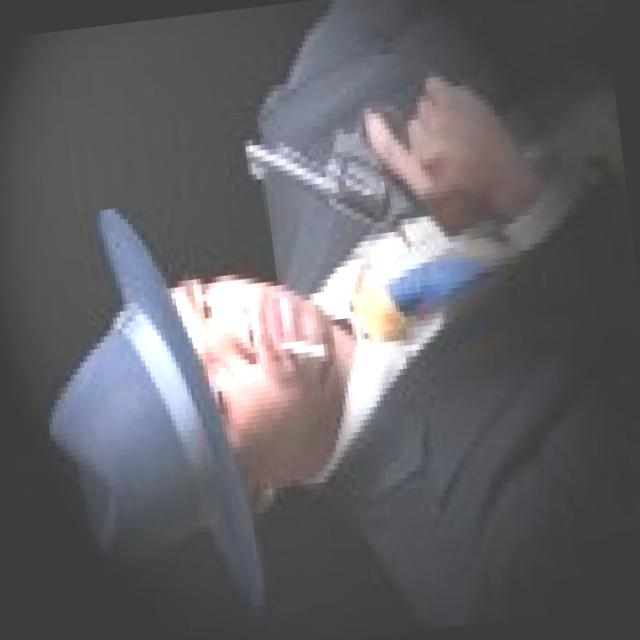handgun: (233, 81, 554, 265)
